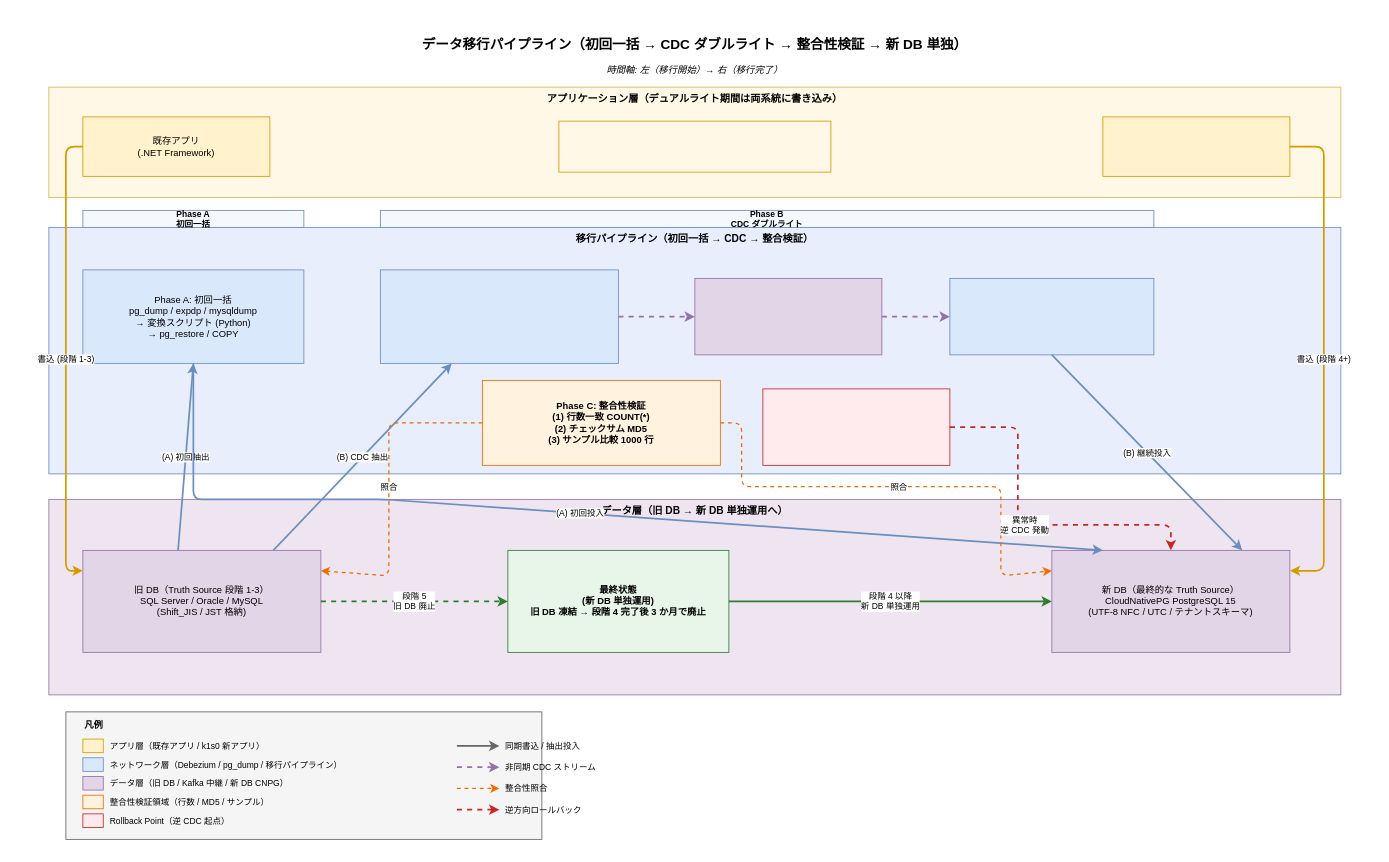
The diagram is 1389 pixels wide and 862 high, and some of its shapes have lost their labels. Here are the shapes that lost their labels. From the top down, the centre of each, then its label:
point (694, 146): Truth Source 境界 (段階 1-3: 旧 DB / 段階 4+: 新 DB)
point (1196, 146): k1s0 新アプリ (tier2 / tier3)
point (499, 316): Phase B: CDC ダブルライト Debezium Source Connector (Binlog / Redo Log / CDC Stream)
point (788, 316): Kafka 中継トピック (Debezium Event Bus)
point (1051, 316): Debezium Sink Connector (Kafka → PostgreSQL)
point (856, 426): Rollback Point (逆方向 CDC 起点) スナップショット保持
